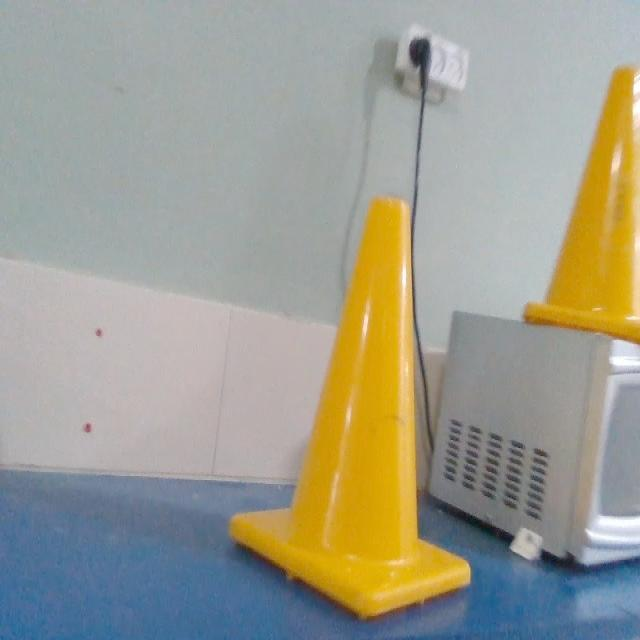cone: (231, 196, 474, 623), (523, 66, 639, 344)
